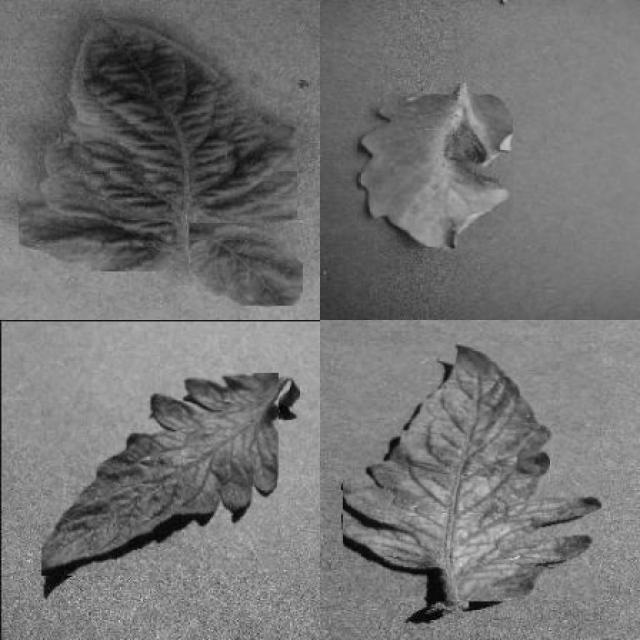Late Blight: (357, 94, 513, 249)
Mosaic Virus: (343, 338, 603, 602), (42, 374, 278, 576)
Yellow Leaf Curl Virus: (19, 18, 297, 272), (188, 224, 303, 306)
